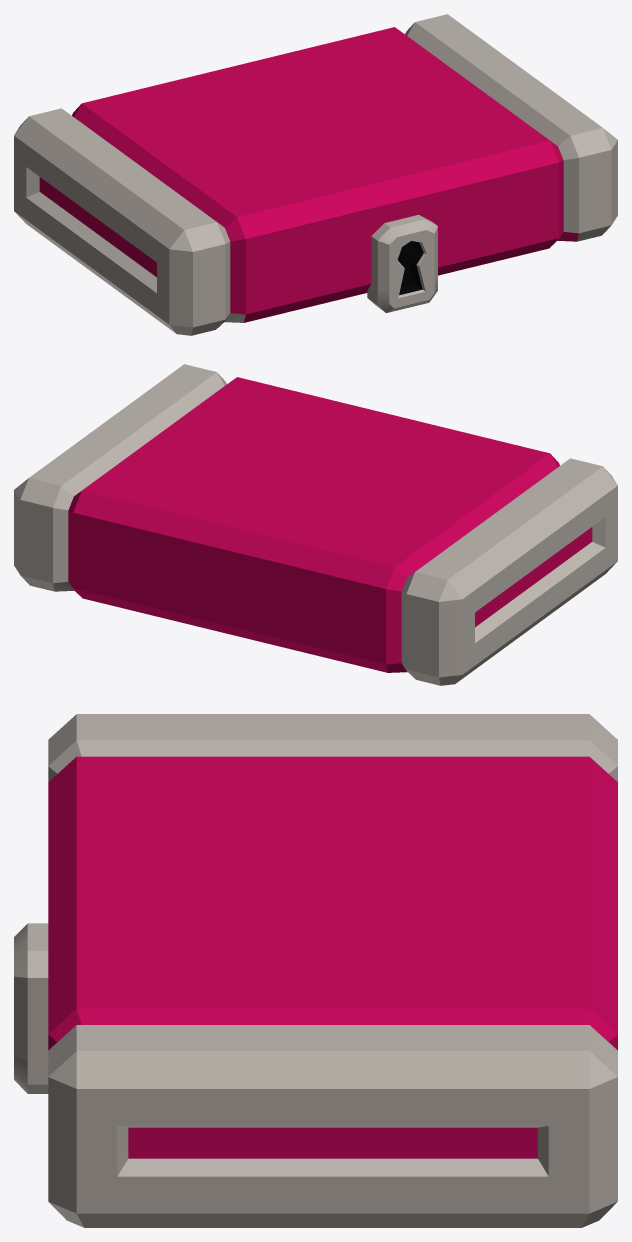
File: m_dec_dung_chestLargeB_lid.fbx
3 views of the same model, one above another, from view 1: azimuth 30°, elevation 25°; view 2: azimuth 150°, elevation 25°; view 3: azimuth 270°, elevation 25° (orthographic). The views are drawn at different scales.
Visible parts, largest first — view 1: m_dec_dung_chestLargeB_lid; view 2: m_dec_dung_chestLargeB_lid; view 3: m_dec_dung_chestLargeB_lid.
Boxes of the visible parts, box(x1,y1,x2,y2) form: m_dec_dung_chestLargeB_lid: box(14, 14, 617, 335); m_dec_dung_chestLargeB_lid: box(14, 364, 617, 685); m_dec_dung_chestLargeB_lid: box(14, 714, 617, 1227).
Size of the model in its own units: 3 by 0.7542 by 2.12.
